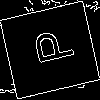P: (24, 25, 76, 69)
